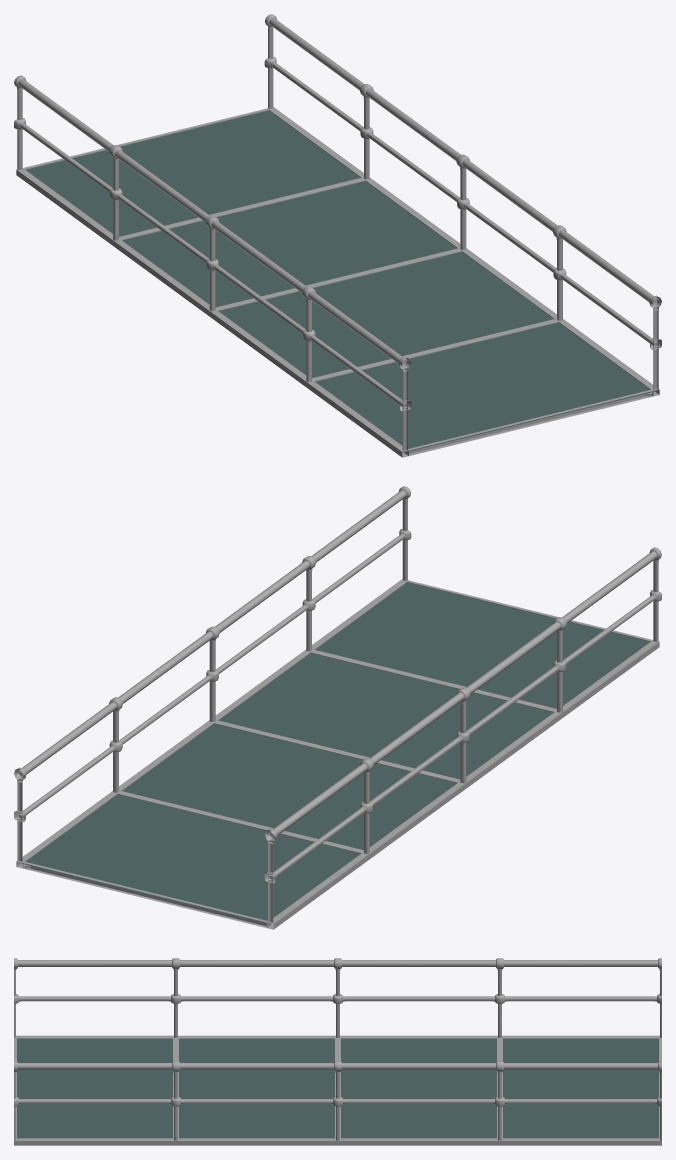
The model's file is RailWalk_Str_Long.fbx.
The picture shows the model from 3 angles, top to bottom: view 1: azimuth 30°, elevation 25°; view 2: azimuth 150°, elevation 25°; view 3: azimuth 270°, elevation 25°; orthographic projection. The views are drawn at different scales.
Visible parts, largest first — view 1: glass04, glass06, glass05, glass07, lineplank09, lineplank01, lineplank05, lineplank10, lineplank11, lineplank04, lineplank06, lineplank07 (+21 smaller); view 2: glass07, glass05, glass06, glass04, lineplank08, lineplank11, lineplank10, lineplank05, lineplank01, lineplank07, lineplank06, lineplank04 (+21 smaller); view 3: glass04, glass05, glass06, glass07, lineplank12, lineplank13, lineplank14, lineplank15, Mainrailing, Mainrailing1, Mainrailing2, Mainrailing3 (+16 smaller).
Boxes of the visible parts, <box> form: glass04: <box>315,322,654,451</box>; glass06: <box>122,181,456,307</box>; glass05: <box>218,252,553,377</box>; glass07: <box>26,110,360,236</box>; lineplank09: <box>408,389,652,455</box>; lineplank01: <box>306,380,408,457</box>; lineplank05: <box>209,309,306,386</box>; lineplank10: <box>113,238,209,315</box>; lineplank11: <box>16,168,113,245</box>; lineplank04: <box>312,319,558,381</box>; lineplank06: <box>215,248,461,310</box>; lineplank07: <box>119,177,365,240</box>; glass07: <box>21,794,360,923</box>; glass05: <box>219,653,553,779</box>; glass06: <box>122,724,457,849</box>; glass04: <box>315,582,649,708</box>; lineplank08: <box>23,861,267,927</box>; lineplank11: <box>267,852,369,929</box>; lineplank10: <box>369,781,466,858</box>; lineplank05: <box>466,710,562,787</box>; lineplank01: <box>562,640,659,717</box>; lineplank07: <box>117,791,363,853</box>; lineplank06: <box>214,720,460,782</box>; lineplank04: <box>310,649,556,712</box>; glass04: <box>17,1039,172,1138</box>; glass05: <box>179,1039,334,1138</box>; glass06: <box>341,1039,496,1138</box>; glass07: <box>503,1039,658,1138</box>; lineplank12: <box>500,1138,661,1145</box>; lineplank13: <box>338,1138,499,1145</box>; lineplank14: <box>176,1138,337,1145</box>; lineplank15: <box>14,1138,175,1145</box>; Mainrailing: <box>18,960,171,966</box>; Mainrailing1: <box>180,960,333,966</box>; Mainrailing2: <box>342,960,495,966</box>; Mainrailing3: <box>504,960,657,966</box>.
Size of the model in its own units: 1.57 by 0.5638 by 4.
